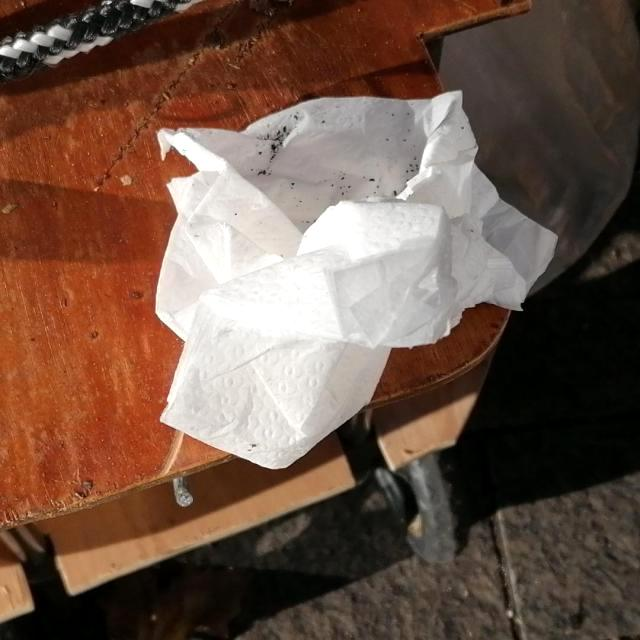Paper: (153, 88, 562, 472)
